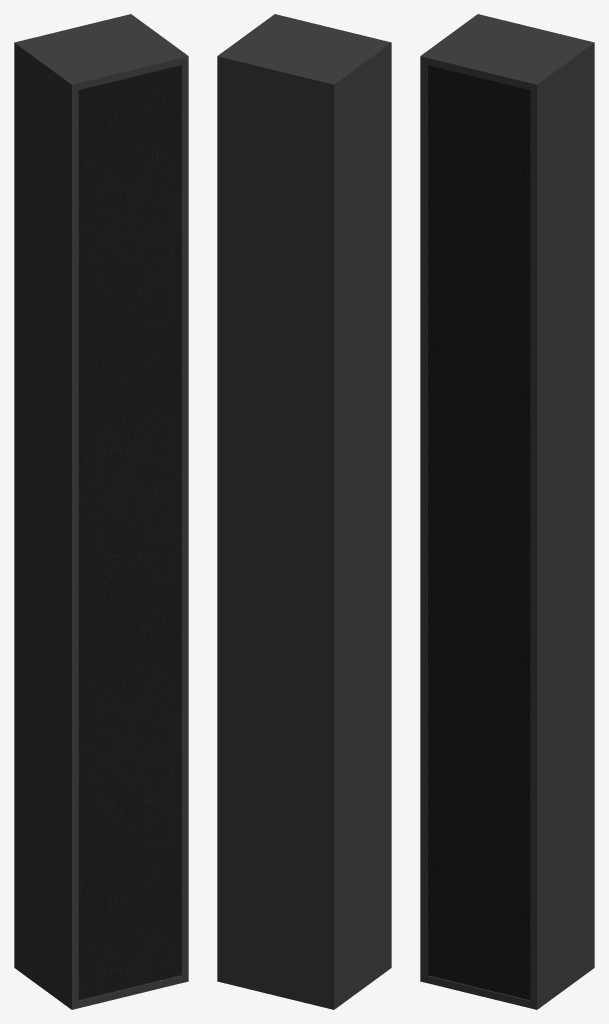
Rendered from banyan-canopy-line-array-speaker.glb.
The picture shows the model from 3 angles, left to right: view 1: azimuth 30°, elevation 25°; view 2: azimuth 150°, elevation 25°; view 3: azimuth 330°, elevation 25°; orthographic projection.
Parts seen in each view (by area): view 1: Canopy; view 2: Canopy; view 3: Canopy.
Part boxes in pixels (x1,y1,x2,y2): Canopy: (14,14,188,1009); Canopy: (217,14,391,1009); Canopy: (420,14,594,1009).
Bounding box in the file's own units: 0.172 × 1.3 × 0.147.
Materials: 2 (1 with a texture image).
